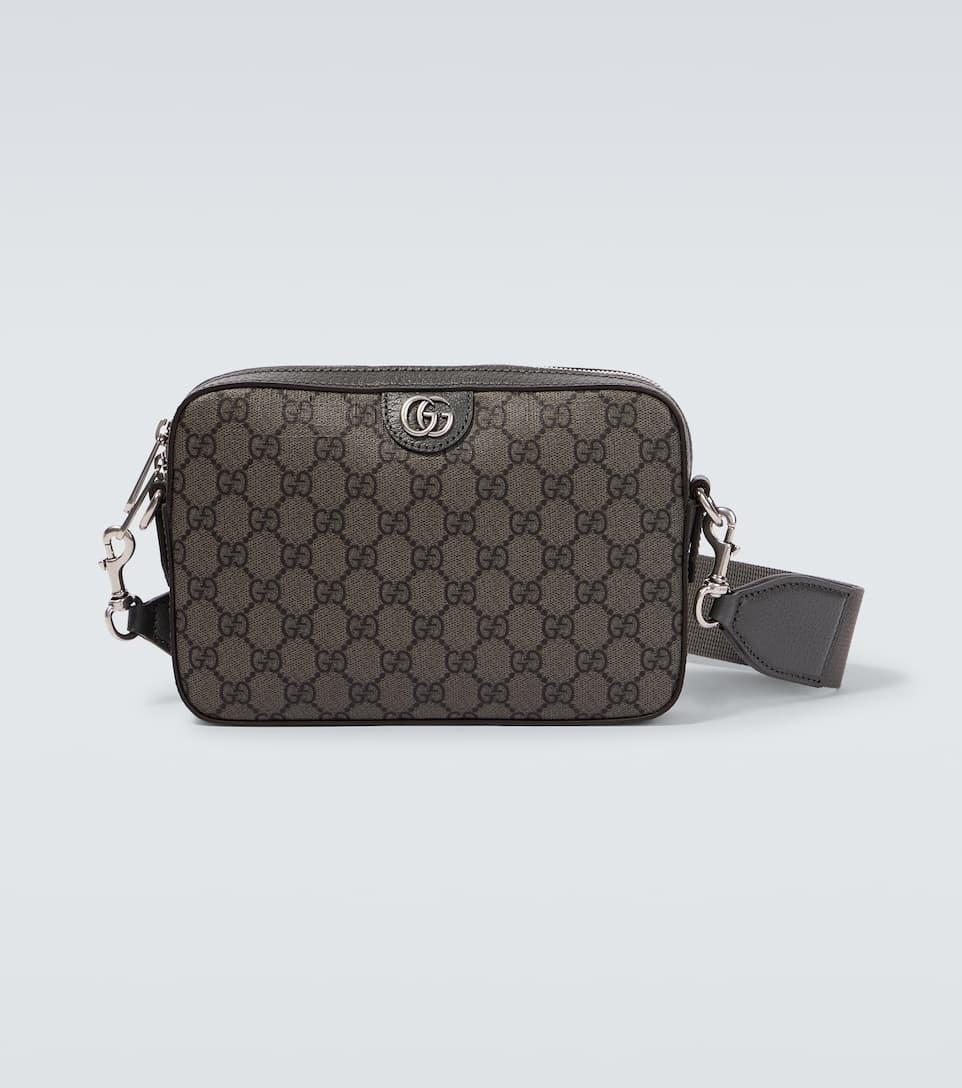GUCCI: (400, 395, 454, 438)
